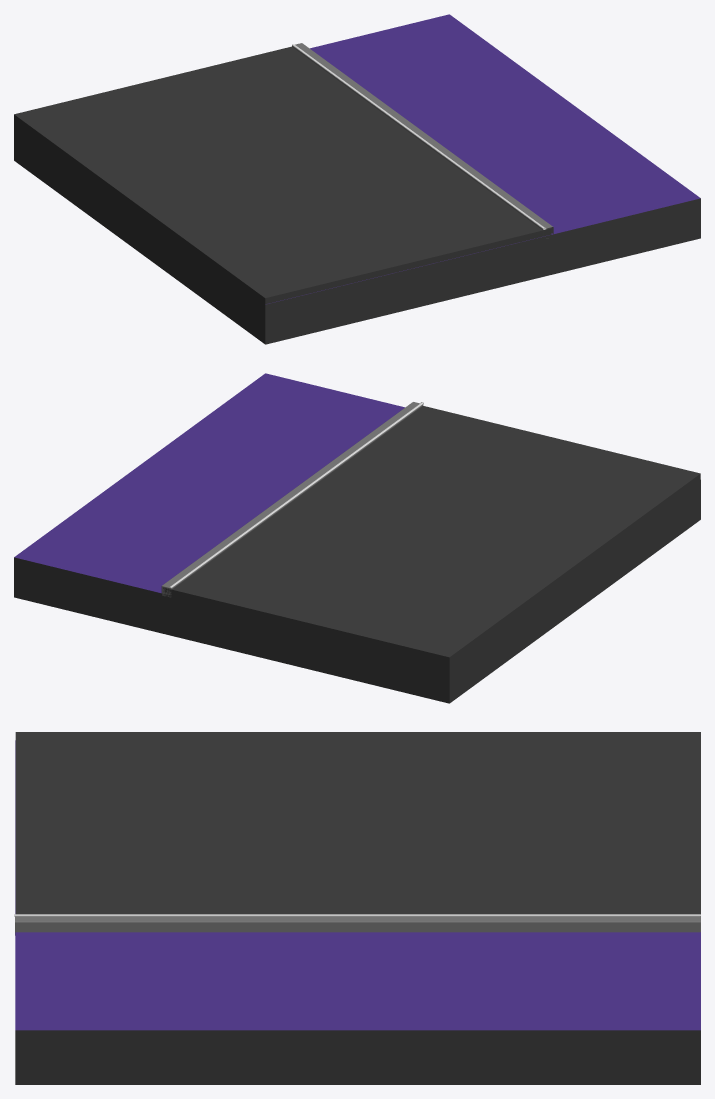
File: curb_4_normal.fbx
3 renders of one model, top to bottom at view 1: azimuth 30°, elevation 25°; view 2: azimuth 150°, elevation 25°; view 3: azimuth 270°, elevation 25°, orthographic. The views are drawn at different scales.
Visible parts, largest first — view 1: Ground Riser.005, Ground 4 - Normal, Curb.007, Curb Light.005; view 2: Ground Riser.005, Ground 4 - Normal, Curb.007, Curb Light.005; view 3: Ground Riser.005, Ground 4 - Normal, Curb.007, Curb Light.005.
Boxes of the visible parts, x1=… form: Ground Riser.005: x1=14, y1=46, x2=551, y2=304; Ground 4 - Normal: x1=14, y1=14, x2=700, y2=344; Curb.007: x1=292, y1=43, x2=553, y2=236; Curb Light.005: x1=292, y1=44, x2=546, y2=229; Ground Riser.005: x1=163, y1=406, x2=700, y2=663; Ground 4 - Normal: x1=14, y1=373, x2=700, y2=703; Curb.007: x1=161, y1=402, x2=423, y2=597; Curb Light.005: x1=170, y1=402, x2=423, y2=587; Ground Riser.005: x1=15, y1=732, x2=700, y2=914; Ground 4 - Normal: x1=15, y1=740, x2=700, y2=1084; Curb.007: x1=15, y1=916, x2=700, y2=935; Curb Light.005: x1=14, y1=914, x2=700, y2=916.
Bounding box in the file's own units: 800 × 86.12 × 801.
